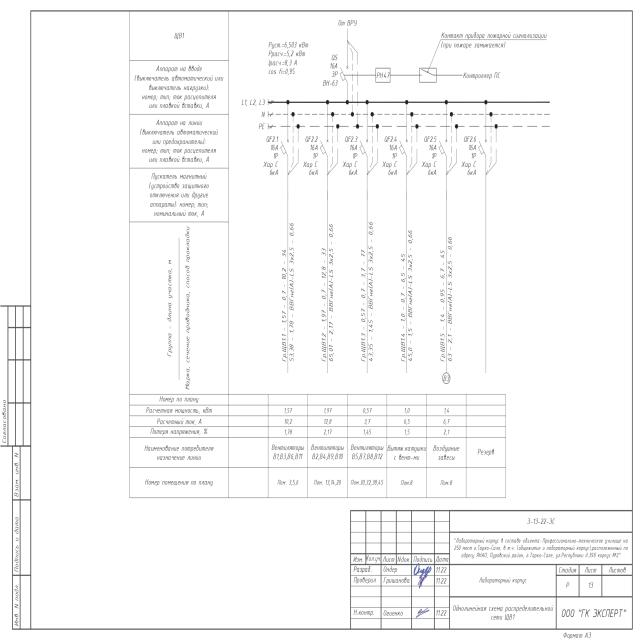-: (342, 143, 360, 176), (460, 144, 478, 177), (302, 144, 320, 176), (421, 144, 438, 177), (382, 144, 399, 177), (262, 145, 280, 176), (322, 62, 338, 88), (173, 31, 185, 42), (377, 71, 390, 80)
ITU: (375, 66, 391, 84)
QF: (438, 136, 449, 158), (398, 136, 409, 157), (358, 137, 369, 158), (339, 63, 349, 85), (478, 138, 489, 158), (319, 138, 330, 158), (280, 138, 290, 158)
